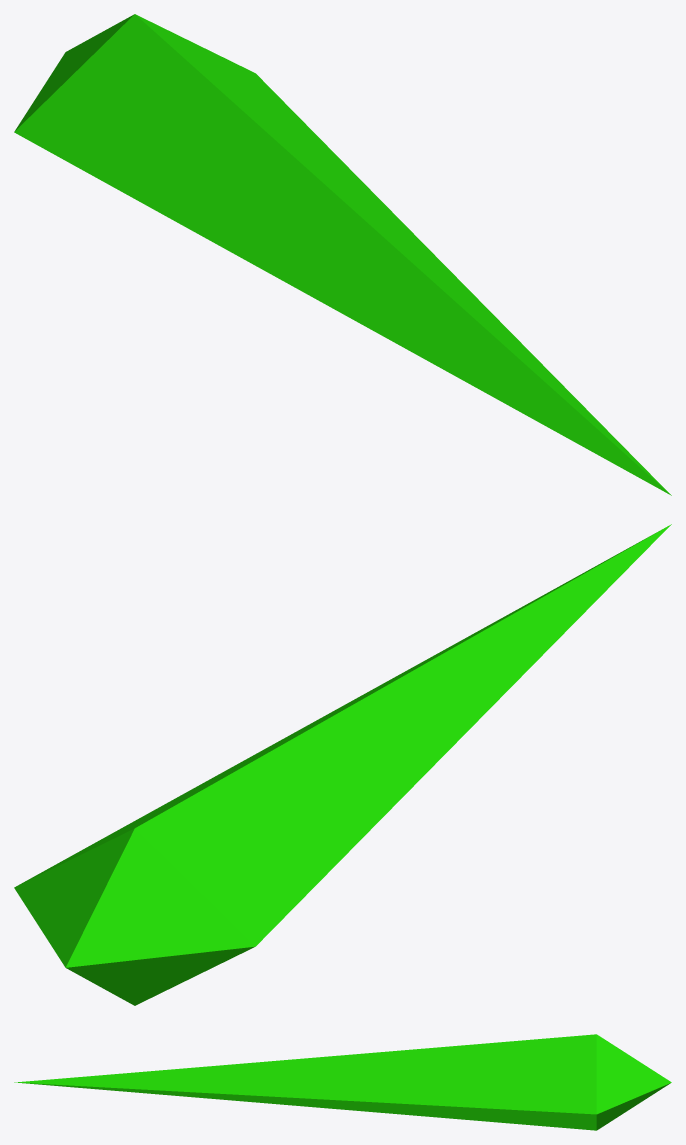
The model's file is pulse.glb.
3 renders of one model, top to bottom at view 1: azimuth 30°, elevation 25°; view 2: azimuth 150°, elevation 25°; view 3: azimuth 270°, elevation 25°, orthographic. The views are drawn at different scales.
Parts seen in each view (by area): view 1: pulse; view 2: pulse; view 3: pulse.
Boxes of the visible parts, <box> form: pulse: <box>14,14,671,495</box>; pulse: <box>14,524,671,1005</box>; pulse: <box>14,1034,671,1130</box>.
Bounding box in the file's own units: 0.4028 × 0.2828 × 1.75.
